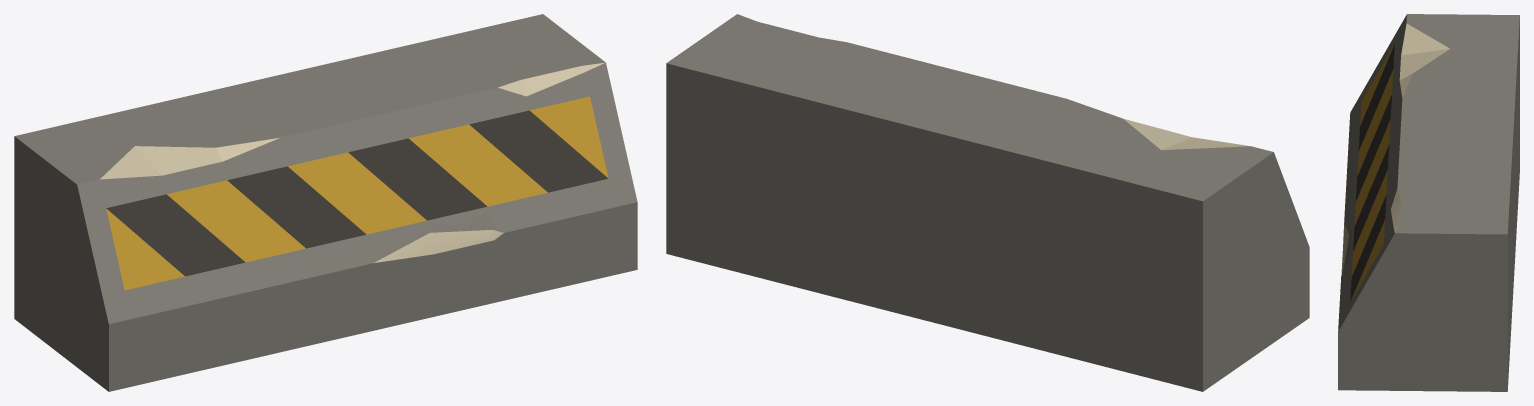
The model's file is cc0-barrier-single-lod1.glb.
The picture shows the model from 3 angles, left to right: view 1: azimuth 30°, elevation 25°; view 2: azimuth 150°, elevation 25°; view 3: azimuth 270°, elevation 25°; orthographic projection. The views are drawn at different scales.
Visible parts, largest first — view 1: part_0; view 2: part_0; view 3: part_0.
Part boxes in pixels (x1=…): part_0: x1=14, y1=14, x2=637, y2=391; part_0: x1=666, y1=14, x2=1309, y2=391; part_0: x1=1338, y1=14, x2=1519, y2=391.
Size of the model in its own units: 1.89 by 0.6281 by 0.6569.
